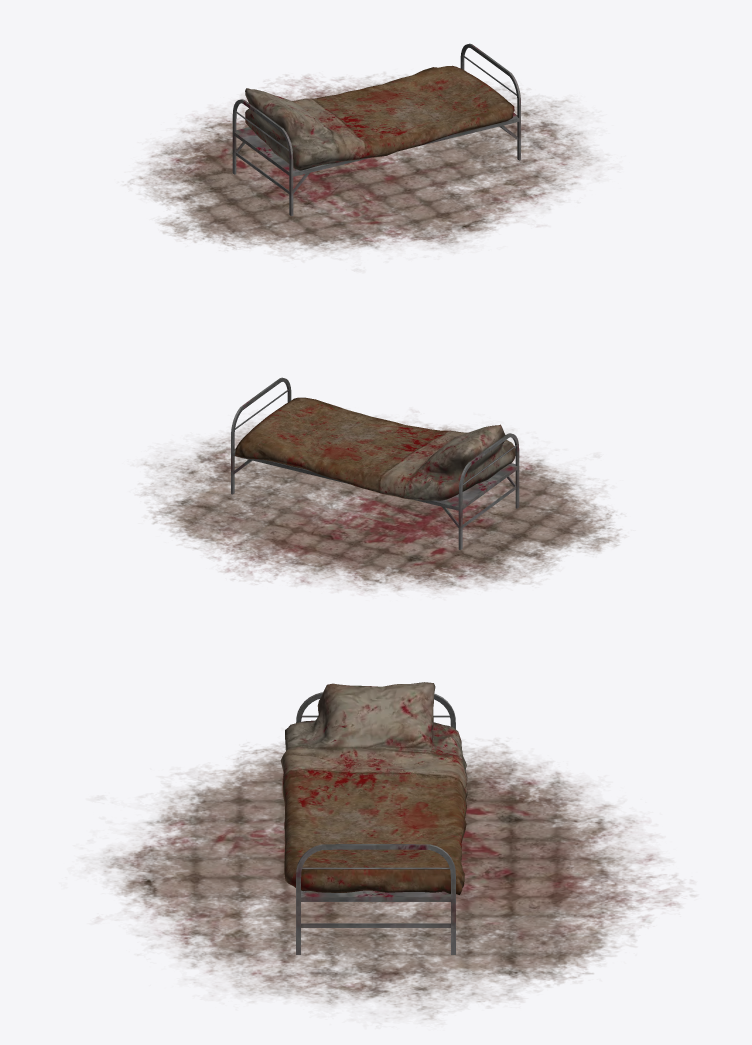
Rendered from x_tortura_horror_bed.glb.
The picture shows the model from 3 angles, top to bottom: view 1: azimuth 30°, elevation 25°; view 2: azimuth 150°, elevation 25°; view 3: azimuth 270°, elevation 25°; orthographic projection. The views are drawn at different scales.
Parts seen in each view (by area): view 1: Bed_low_Bed_0; view 2: Bed_low_Bed_0; view 3: Bed_low_Bed_0.
Part boxes in pixels (x1,y1,x2,y2): Bed_low_Bed_0: (125, 43, 599, 258); Bed_low_Bed_0: (141, 377, 625, 592); Bed_low_Bed_0: (85, 682, 693, 1019).
Bounding box in the file's own units: 2.1 × 0.397 × 2.1.
Materials: 2 (2 with a texture image).
